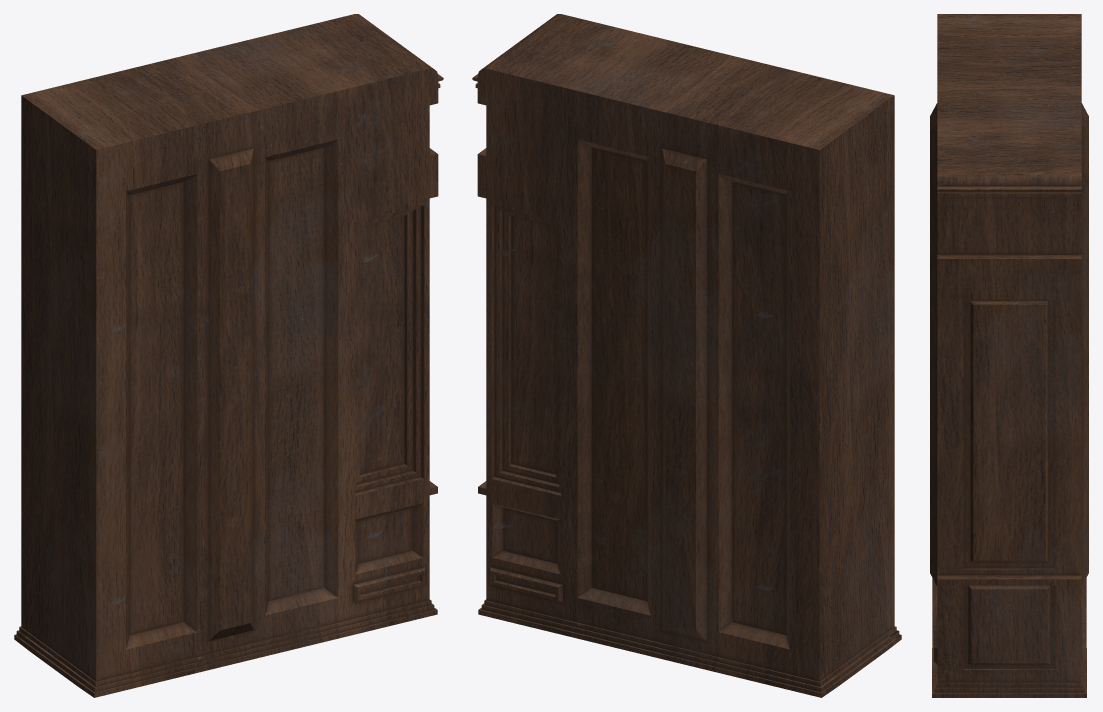
Rendered from wood_pillar.glb.
3 renders of one model, left to right at view 1: azimuth 30°, elevation 25°; view 2: azimuth 150°, elevation 25°; view 3: azimuth 270°, elevation 25°, orthographic. The views are drawn at different scales.
Parts seen in each view (by area): view 1: Object_4; view 2: Object_4; view 3: Object_4.
Part boxes in pixels (x1,y1,x2,y2): Object_4: [14, 14, 443, 697]; Object_4: [472, 14, 901, 697]; Object_4: [930, 14, 1088, 697].
Size of the model in its own units: 2.18 by 3.22 by 0.8825.
1 material, 1 textured.
